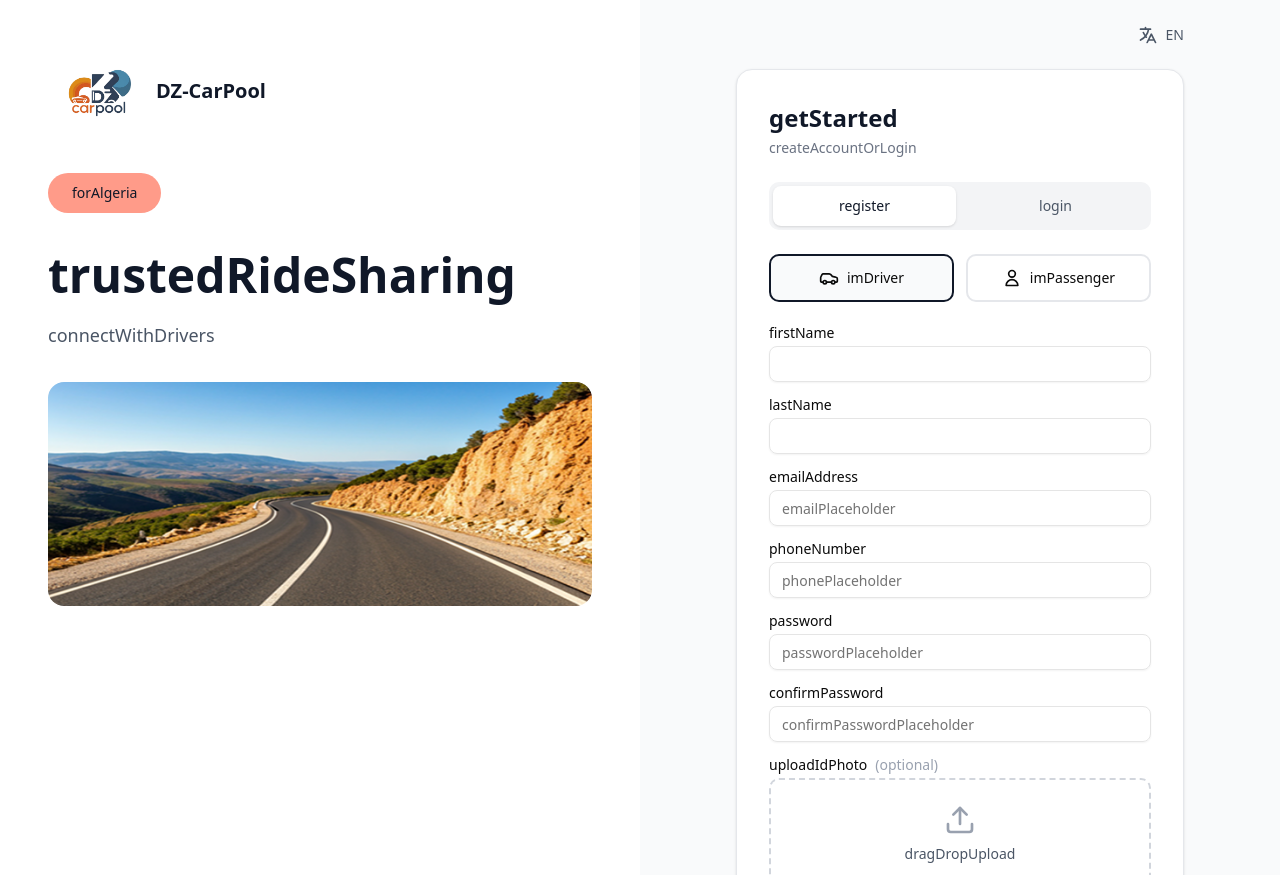
Test: SignupPage › validates password match
Type "John" into the field labelled "firstName".
click(960, 364); type("John")  # box [769,346,1151,382]
Type "Doe" into the field labelled "lastName".
click(960, 436); type("Doe")  # box [769,418,1151,454]
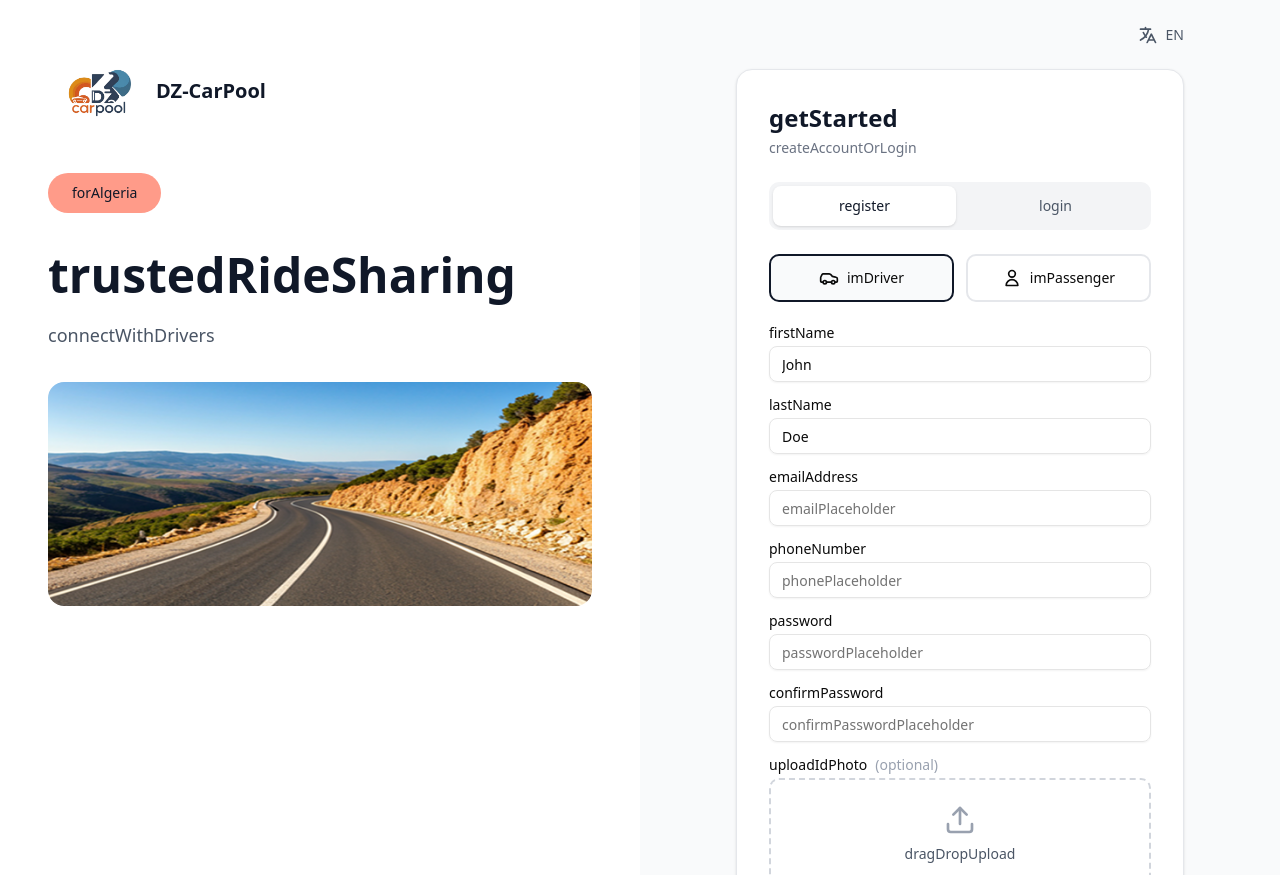
Type "john@example.com" into the field labelled "emailAddress".
click(960, 508); type("john@example.com")  # box [769,490,1151,526]
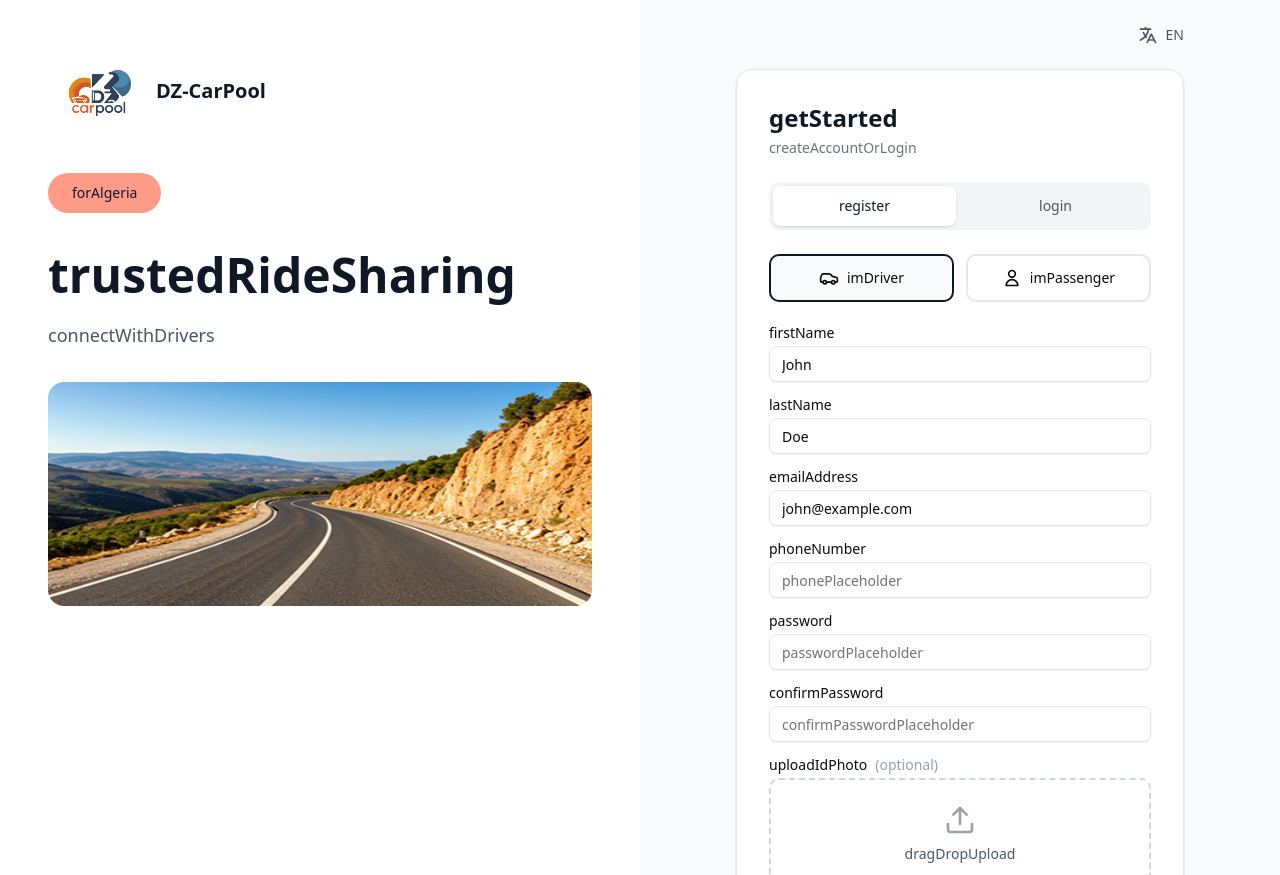
Type "+213555000000" into the field labelled "phoneNumber".
click(960, 580); type("+213555000000")  # box [769,562,1151,598]
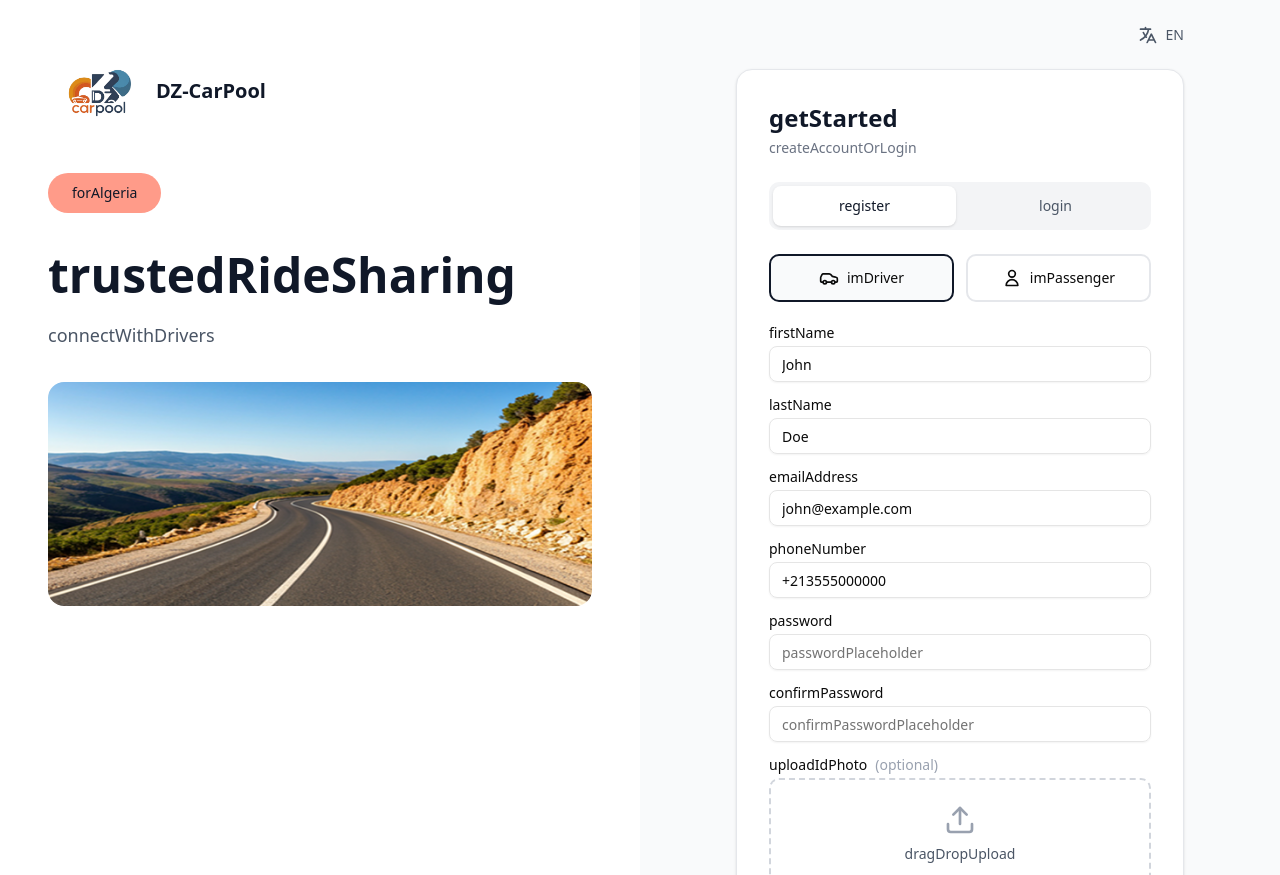
Type "password123" into the password field labelled "password".
click(960, 652); type("password123")  # box [769,634,1151,670]
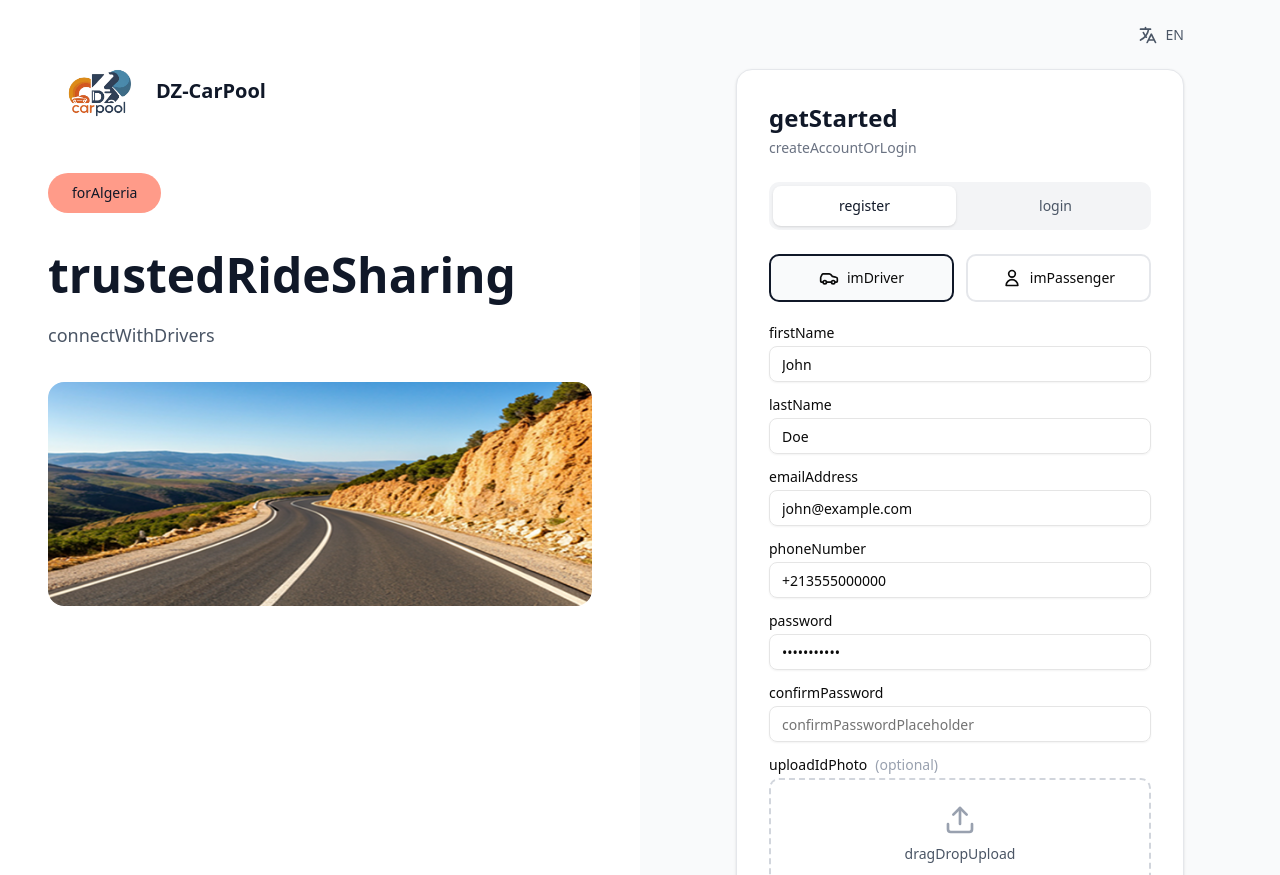
Type "password456" into the password field labelled "confirmPassword".
click(960, 724); type("password456")  # box [769,706,1151,742]
(page scrolled)
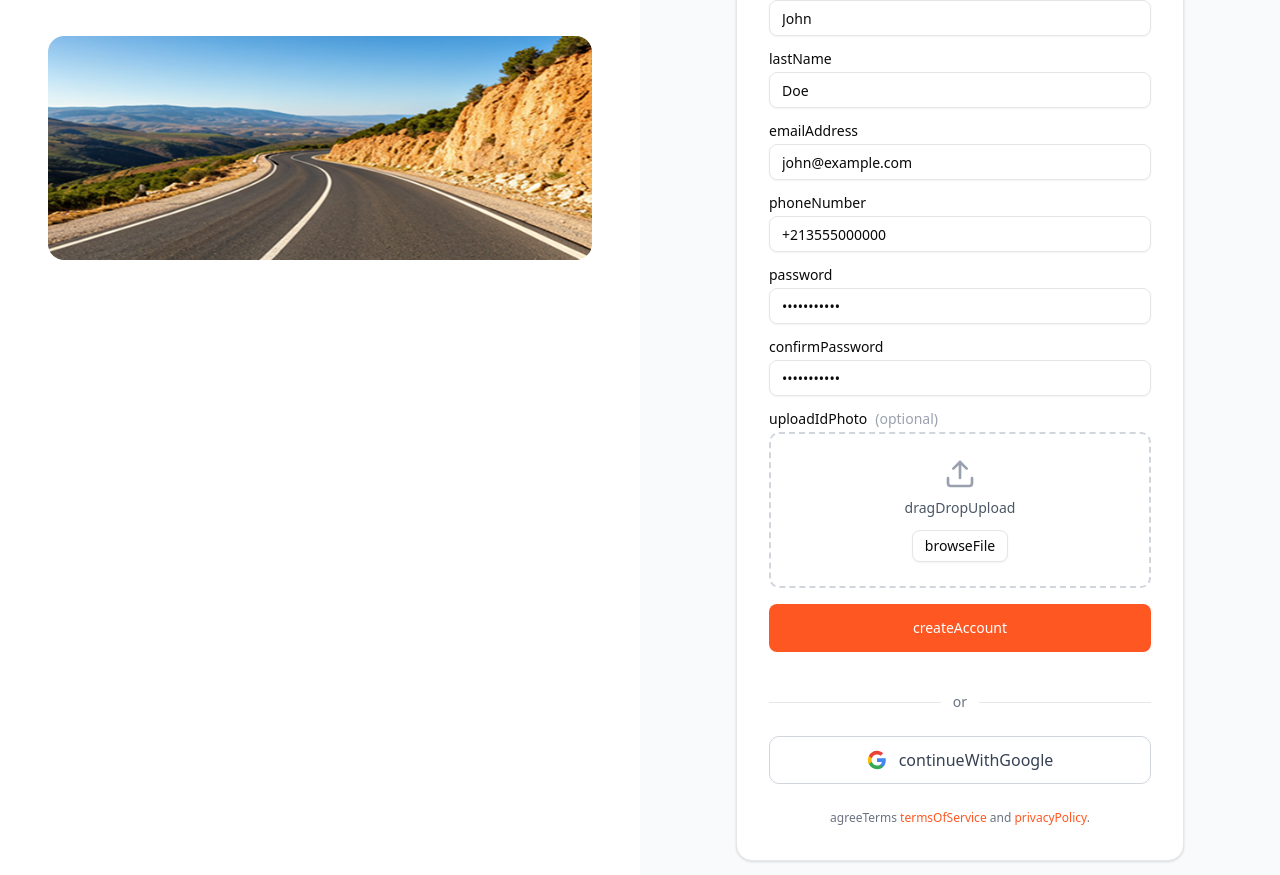
Click the button "createAccount".
click(960, 628)  # box [769,604,1151,652]
(page scrolled)
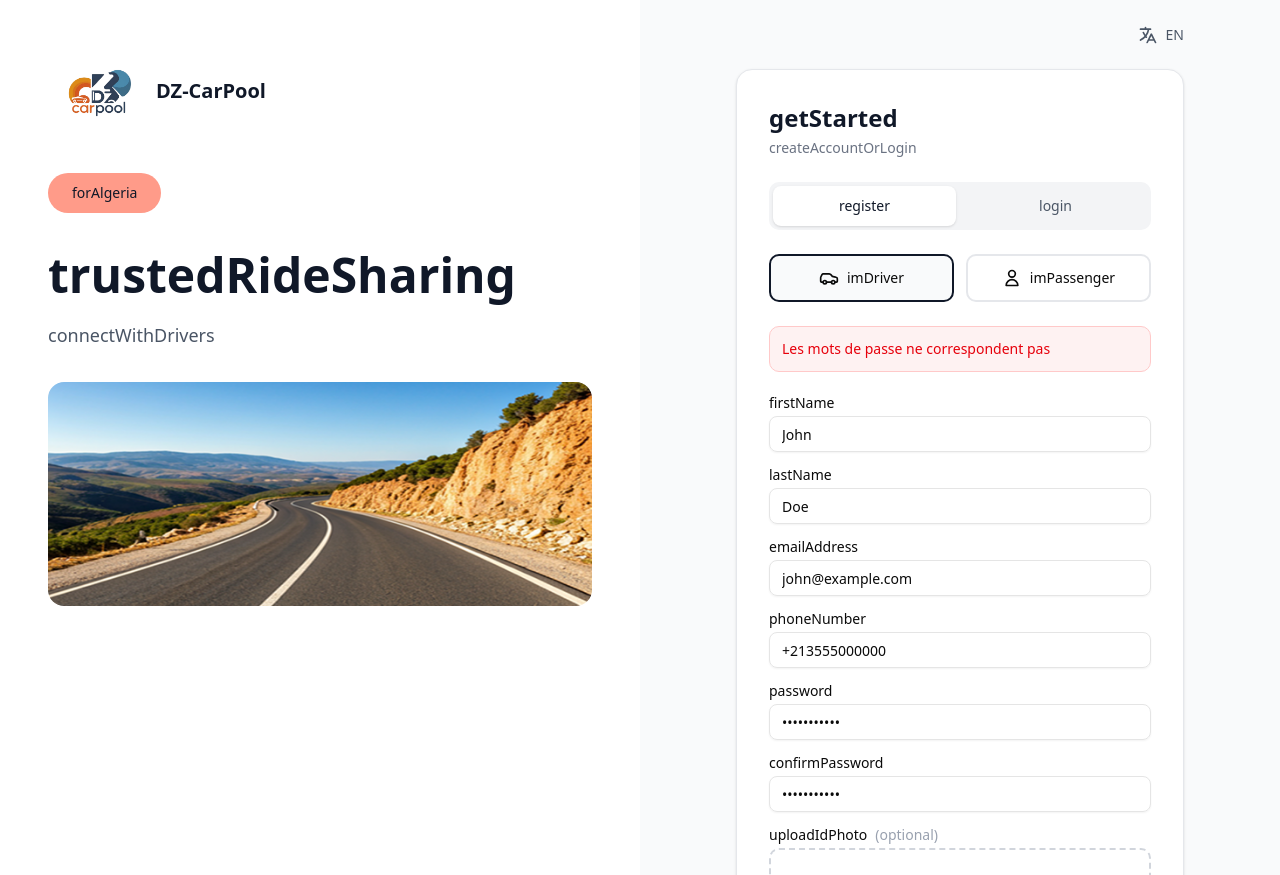
Expected: the text "Les mots de passe ne correspondent pas" is shown, [769,326,1151,372]
